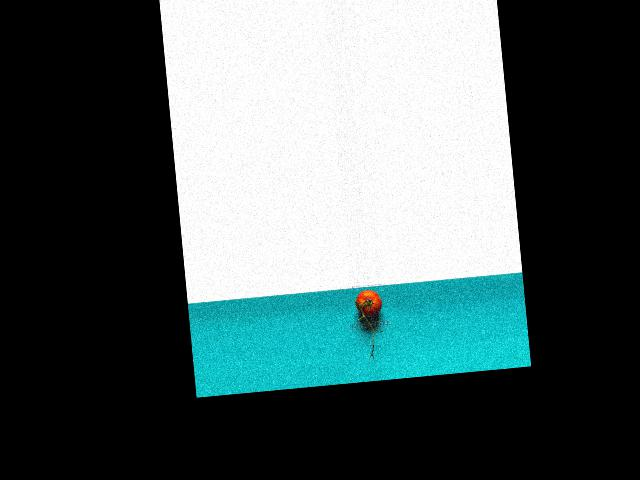tomato: (353, 289, 382, 317)
